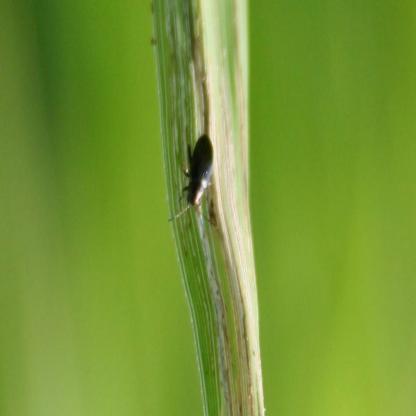rice-bug: (176, 130, 220, 213)
